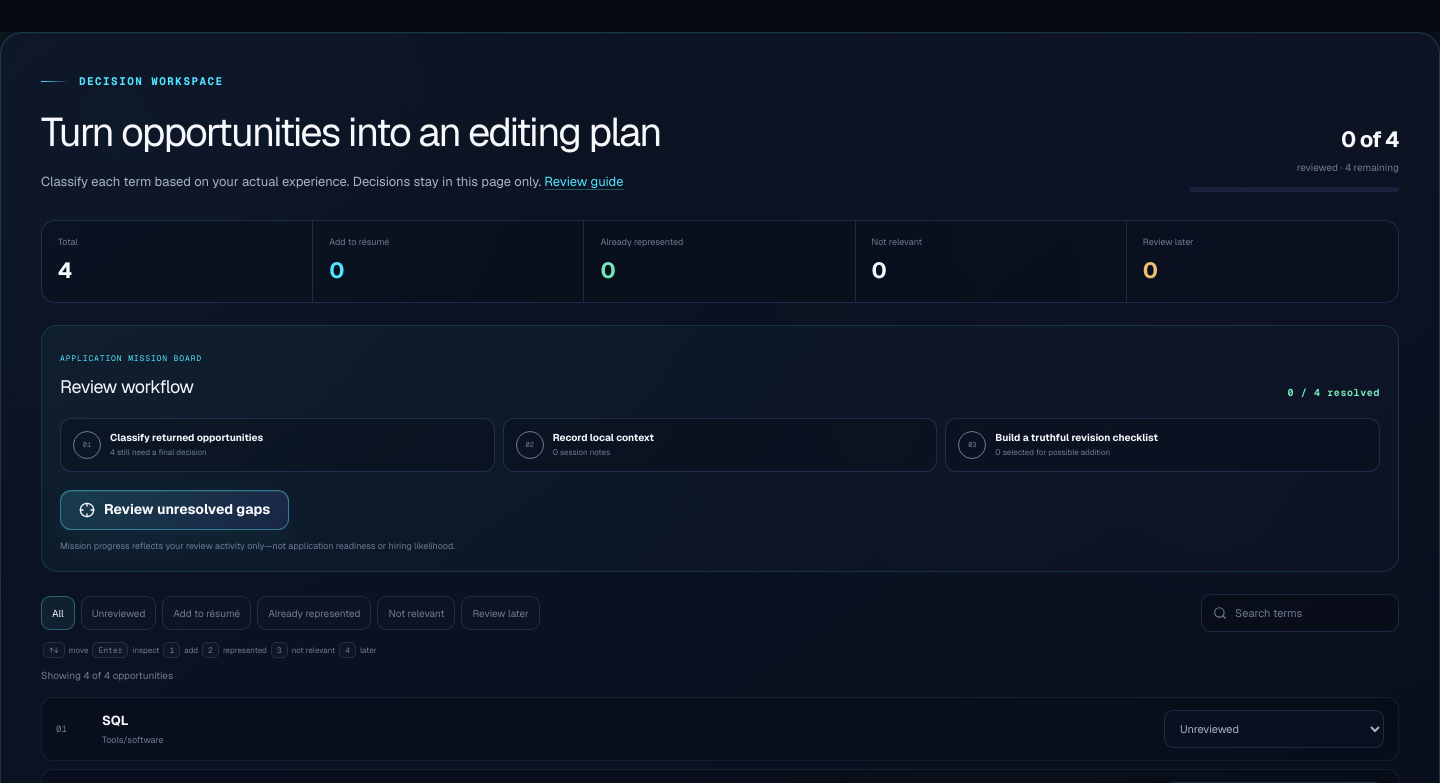
Scenario: ReviewWorkspace › copies only explicitly selected terms as plain text
This screenshot has width=1440, height=783.
Select "Add to résumé" in the dropdown named "Review status for SQL" in the row of "SQL" at (1274, 729), box [1164,710,1384,748]
(page scrolled)
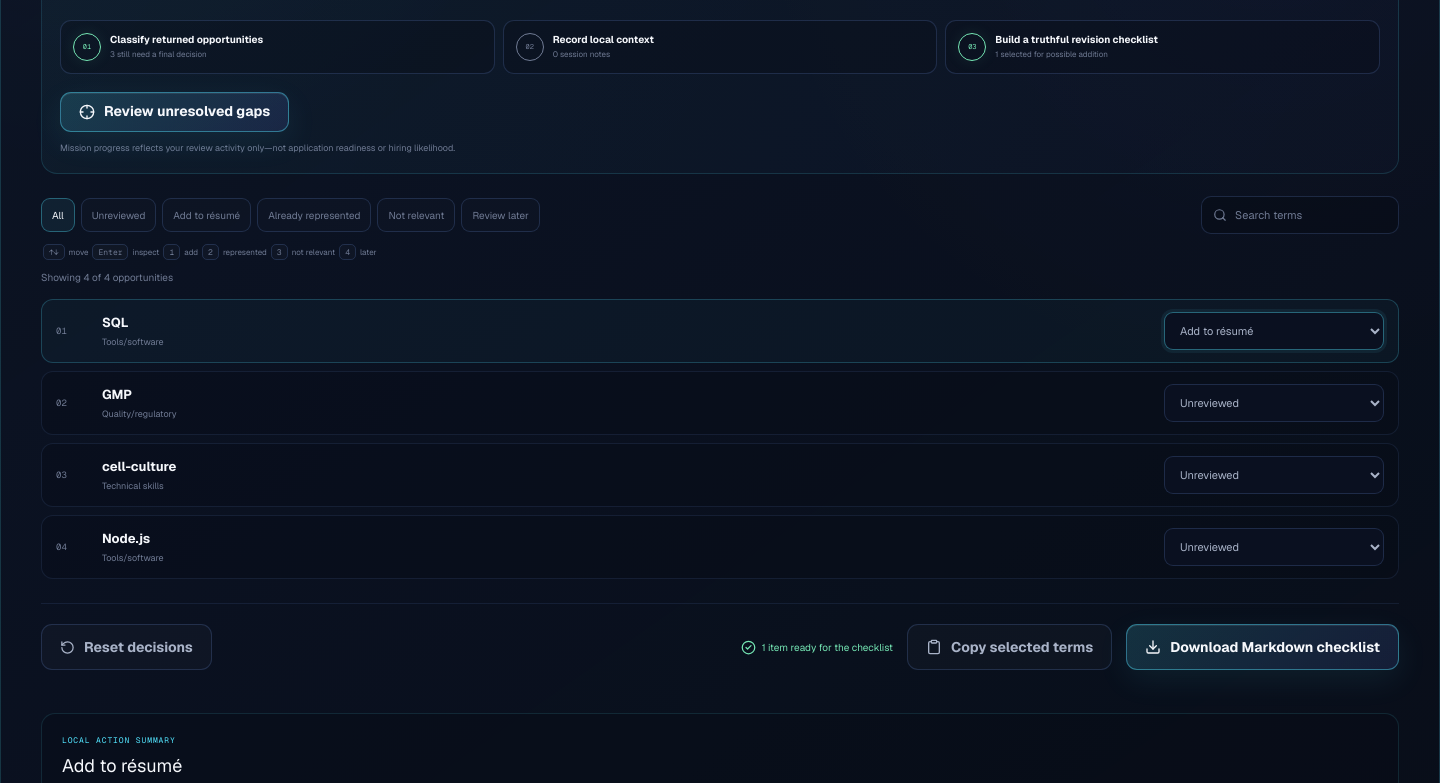
Select "Review later" in the dropdown named "Review status for GMP" in the row of "Quality/regulatory" at (1274, 403), box [1164,384,1384,422]
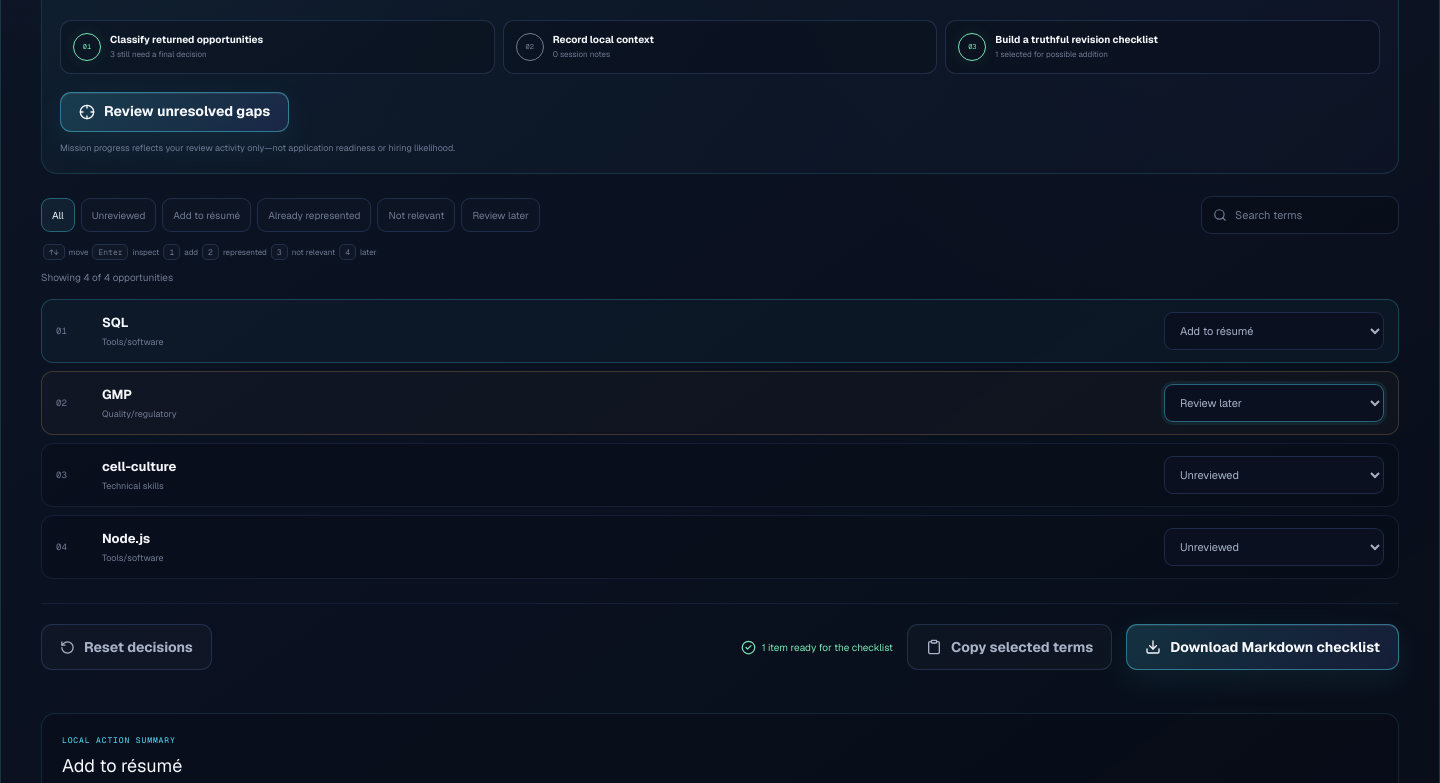
Click the button "Copy selected terms" at (1010, 647), box [907,624,1112,670]
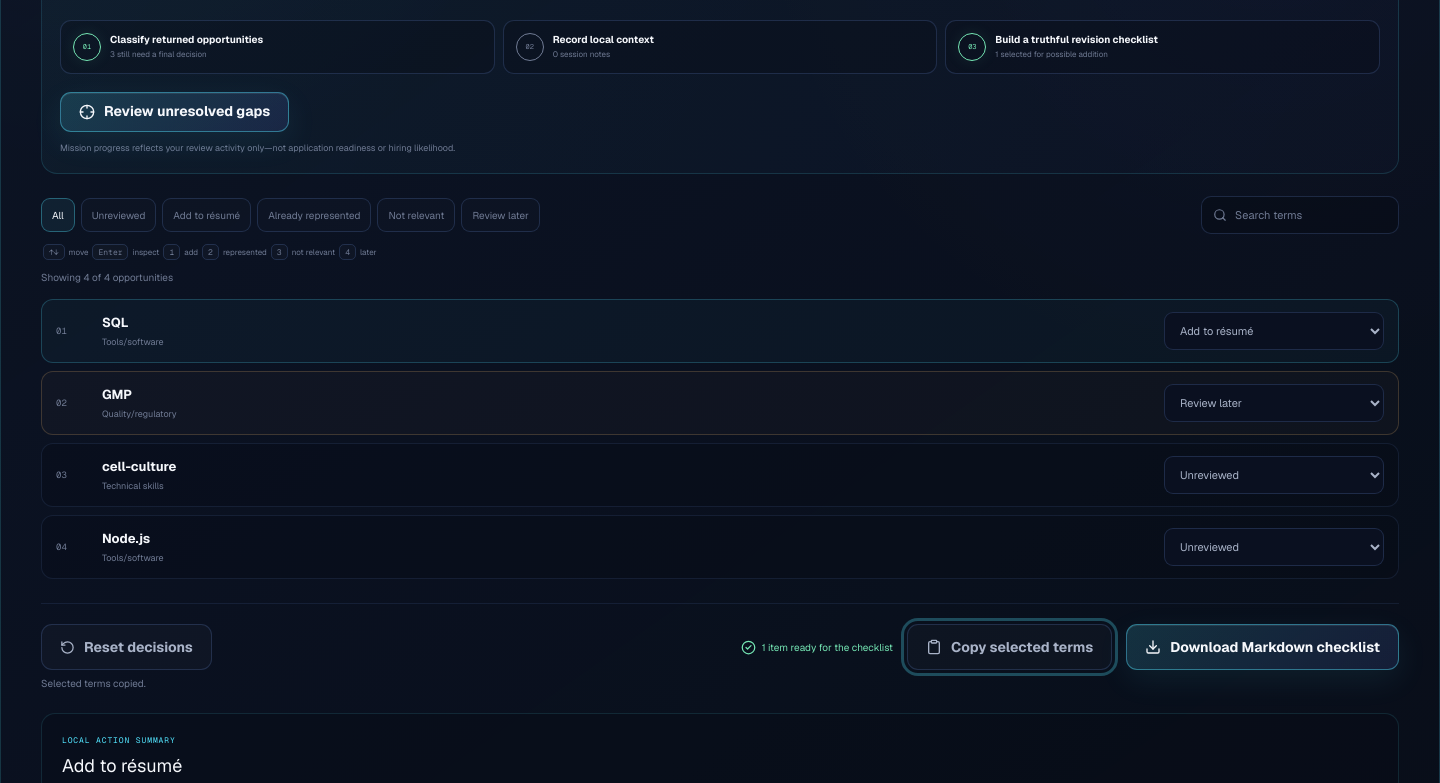
Check: the text "Selected terms copied." is shown, box [41,677,146,690]
